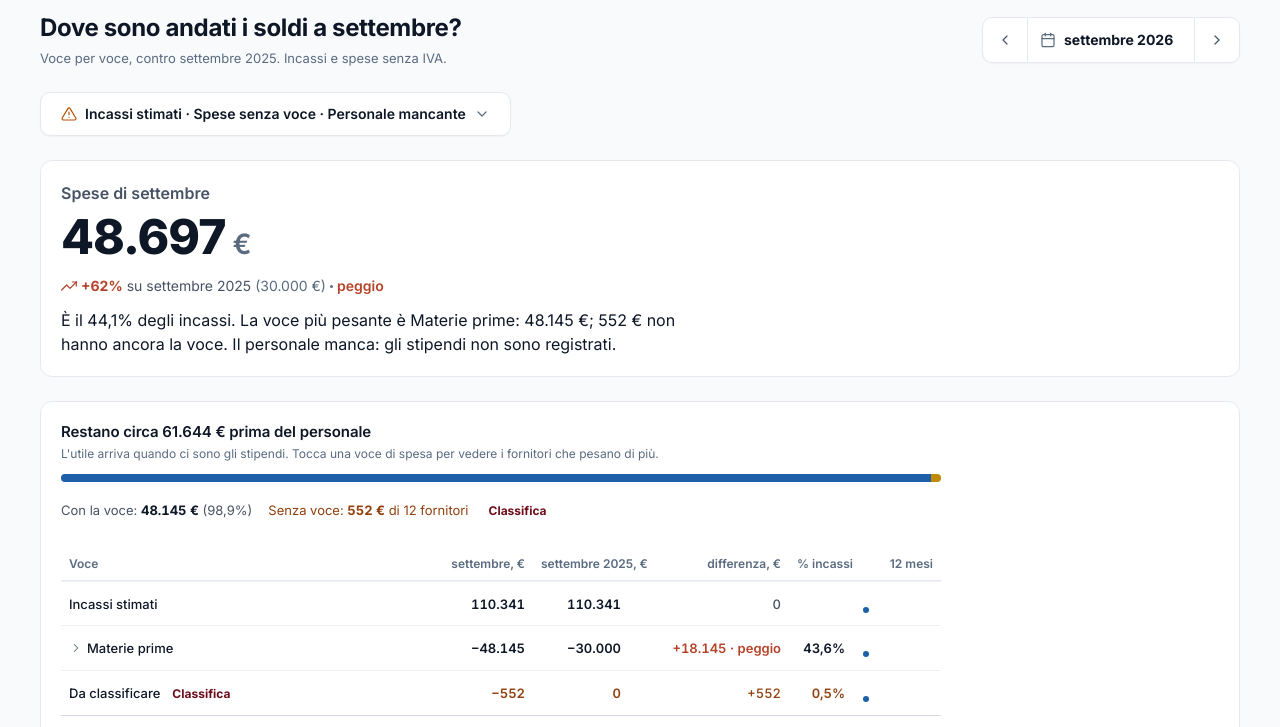
Test: quanto è classificato › dice quanto ha la voce, quanto no e di quanti fornitori, con «Classifica»
Expected: the element that starts with "Con la voce:" shows "48.145 €", [141, 502, 199, 518]
Expected: the element that starts with "Con la voce:" shows "98,9%", [207, 502, 248, 518]
Click the button "Classifica" next to "di 12 fornitori" at {"x": 518, "y": 510}, box [484, 488, 551, 532]
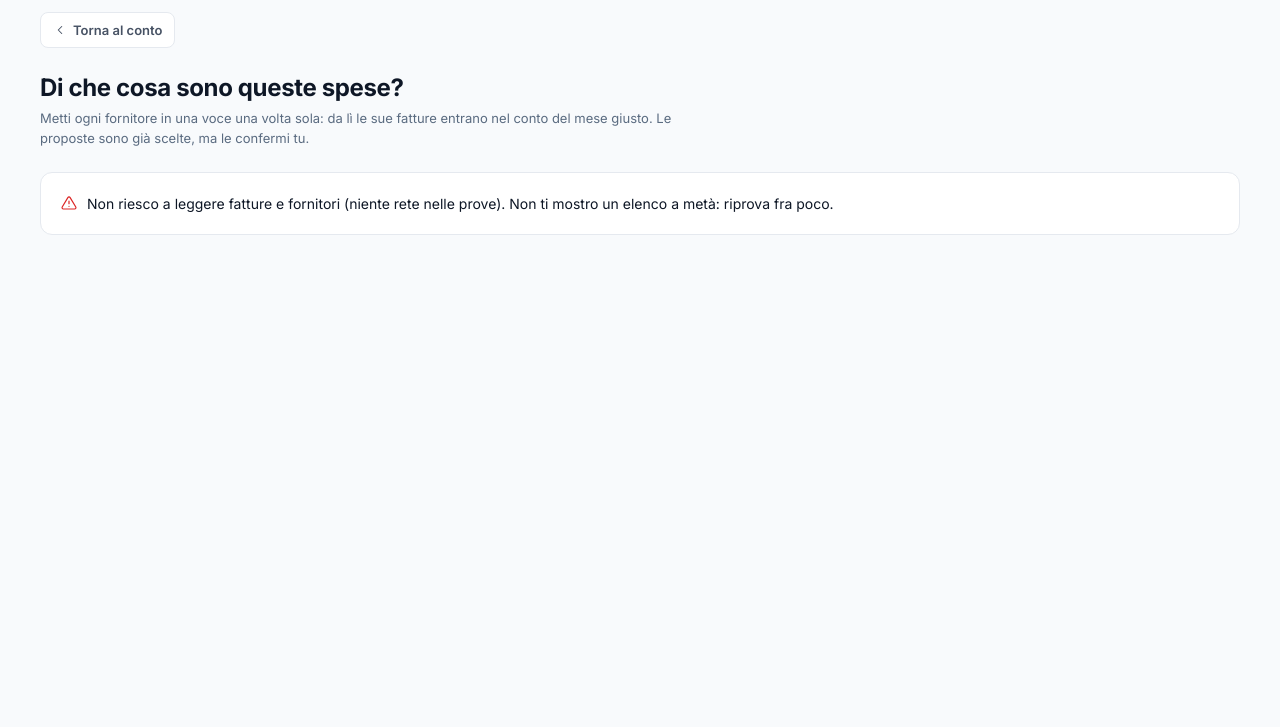
Result: the text "Di che cosa sono queste spese" is shown at [40, 73, 404, 102]
